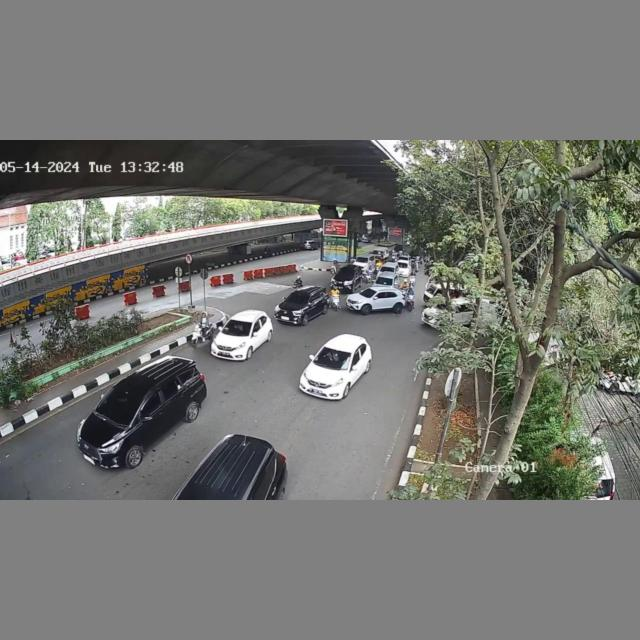windshield: (94, 386, 151, 423), (313, 347, 351, 370), (218, 320, 254, 338), (282, 291, 311, 304)
